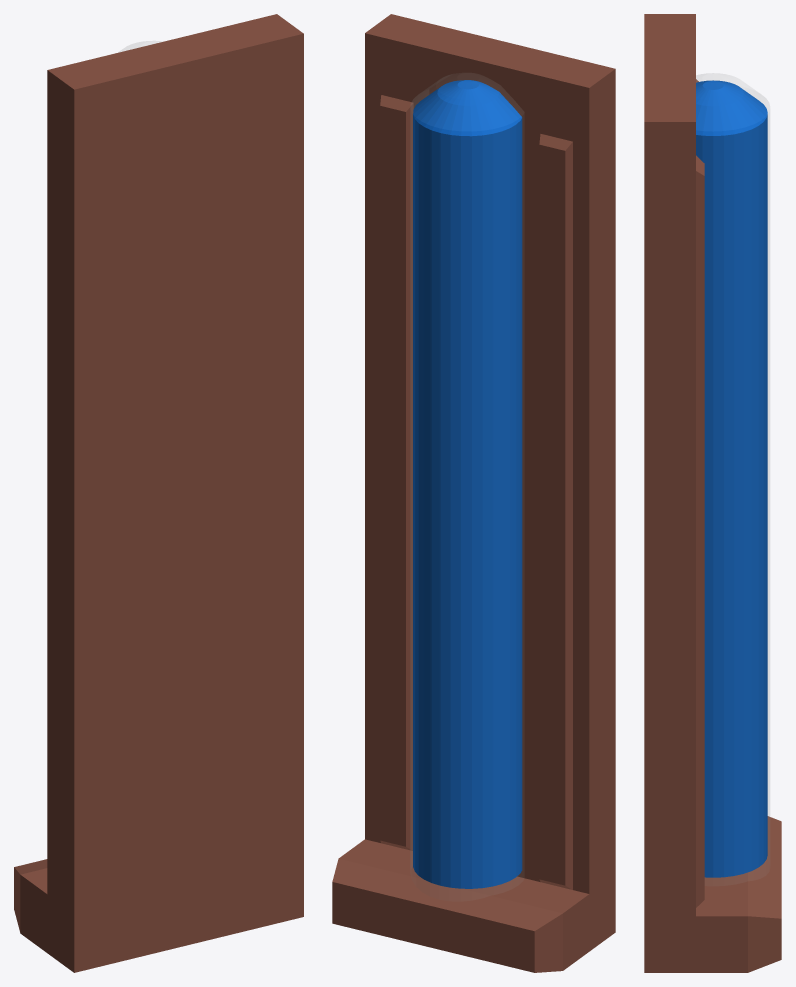
File: WaterDisplay.fbx
3 renders of one model, left to right at view 1: azimuth 30°, elevation 25°; view 2: azimuth 150°, elevation 25°; view 3: azimuth 270°, elevation 25°, orthographic. The views are drawn at different scales.
Visible parts, largest first — view 1: WaterDisplay; view 2: WaterDisplay, Water; view 3: WaterDisplay, Water.
Part boxes in pixels (<box>): WaterDisplay: <box>14,14,303,972</box>; WaterDisplay: <box>332,14,615,972</box>; Water: <box>413,80,522,888</box>; WaterDisplay: <box>644,14,781,972</box>; Water: <box>696,80,767,877</box>.
Bounding box in the file's own units: 446 × 1641 × 241.
